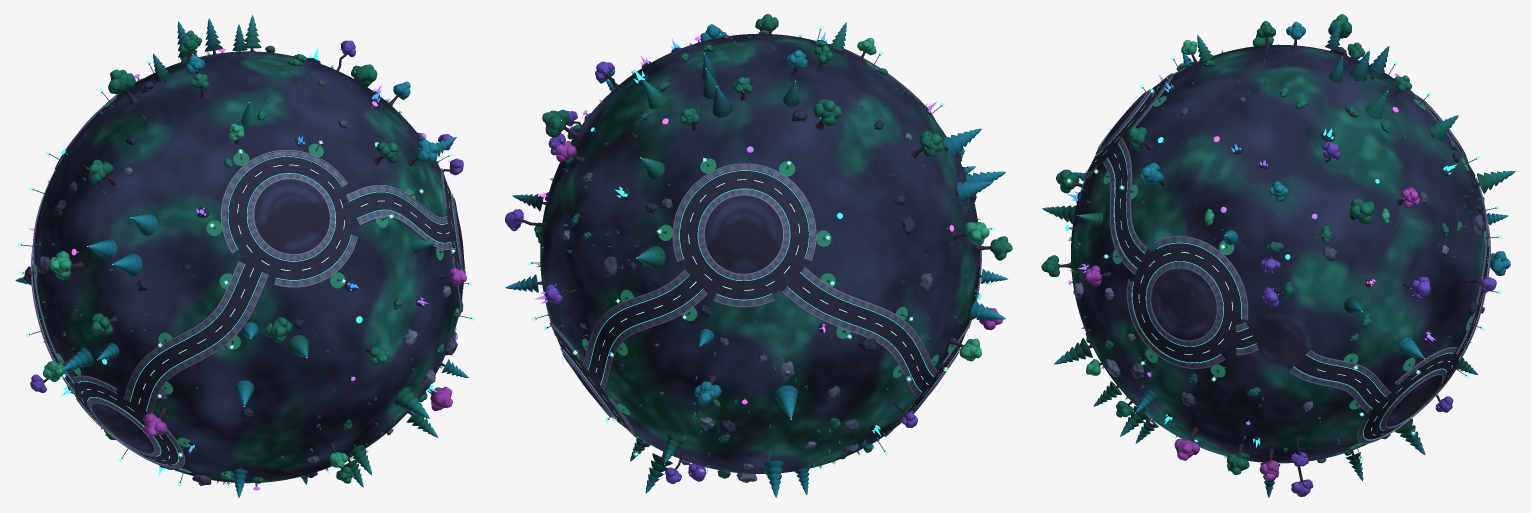
File: world.glb
3 views of the same model, side by side, from view 1: azimuth 30°, elevation 25°; view 2: azimuth 150°, elevation 25°; view 3: azimuth 270°, elevation 25° (orthographic). The views are drawn at different scales.
Parts seen in each view (by area): view 1: Planet, Road_lit, Scatter_zp_lit, Scatter_xn_lit, Scatter_yn_lit, Scatter_xp_lit, Road_glow_cyan, Scatter_zn_lit, Road_glow_halo, Scatter_yn_glow_halo; view 2: Planet, Road_lit, Scatter_zp_lit, Scatter_xn_lit, Scatter_yp_lit, Scatter_xp_lit, Scatter_zn_lit, Road_glow_cyan, Road_glow_halo; view 3: Planet, Road_lit, Scatter_xp_lit, Scatter_zp_lit, Scatter_yn_lit, Scatter_yp_lit, Scatter_zn_lit, Road_glow_cyan, Road_glow_halo.
Boxes of the visible parts, bbox=[...] form: Planet: bbox=[34, 51, 464, 483]; Road_lit: bbox=[30, 78, 465, 468]; Scatter_zp_lit: bbox=[100, 15, 438, 217]; Scatter_xn_lit: bbox=[23, 152, 197, 448]; Scatter_yn_lit: bbox=[196, 188, 466, 474]; Scatter_xp_lit: bbox=[351, 64, 468, 410]; Road_glow_cyan: bbox=[32, 156, 461, 464]; Scatter_zn_lit: bbox=[101, 428, 393, 497]; Road_glow_halo: bbox=[56, 97, 460, 472]; Scatter_yn_glow_halo: bbox=[219, 188, 443, 349]; Planet: bbox=[540, 33, 980, 473]; Road_lit: bbox=[549, 44, 981, 437]; Scatter_zp_lit: bbox=[593, 14, 931, 170]; Scatter_xn_lit: bbox=[817, 128, 1012, 445]; Scatter_yp_lit: bbox=[545, 158, 807, 463]; Scatter_xp_lit: bbox=[505, 64, 626, 302]; Scatter_zn_lit: bbox=[630, 437, 873, 497]; Road_glow_cyan: bbox=[553, 170, 941, 432]; Road_glow_halo: bbox=[546, 62, 955, 445]; Planet: bbox=[1071, 45, 1485, 463]; Road_lit: bbox=[1084, 73, 1490, 443]; Scatter_xp_lit: bbox=[1131, 181, 1431, 480]; Scatter_zp_lit: bbox=[1128, 14, 1417, 185]; Scatter_yn_lit: bbox=[1041, 169, 1148, 436]; Scatter_yp_lit: bbox=[1418, 115, 1515, 374]; Scatter_zn_lit: bbox=[1116, 394, 1453, 497]; Road_glow_cyan: bbox=[1087, 77, 1489, 439]; Road_glow_halo: bbox=[1080, 67, 1468, 448].
Bounding box in the file's own units: 91.08 × 90.7 × 90.98.
